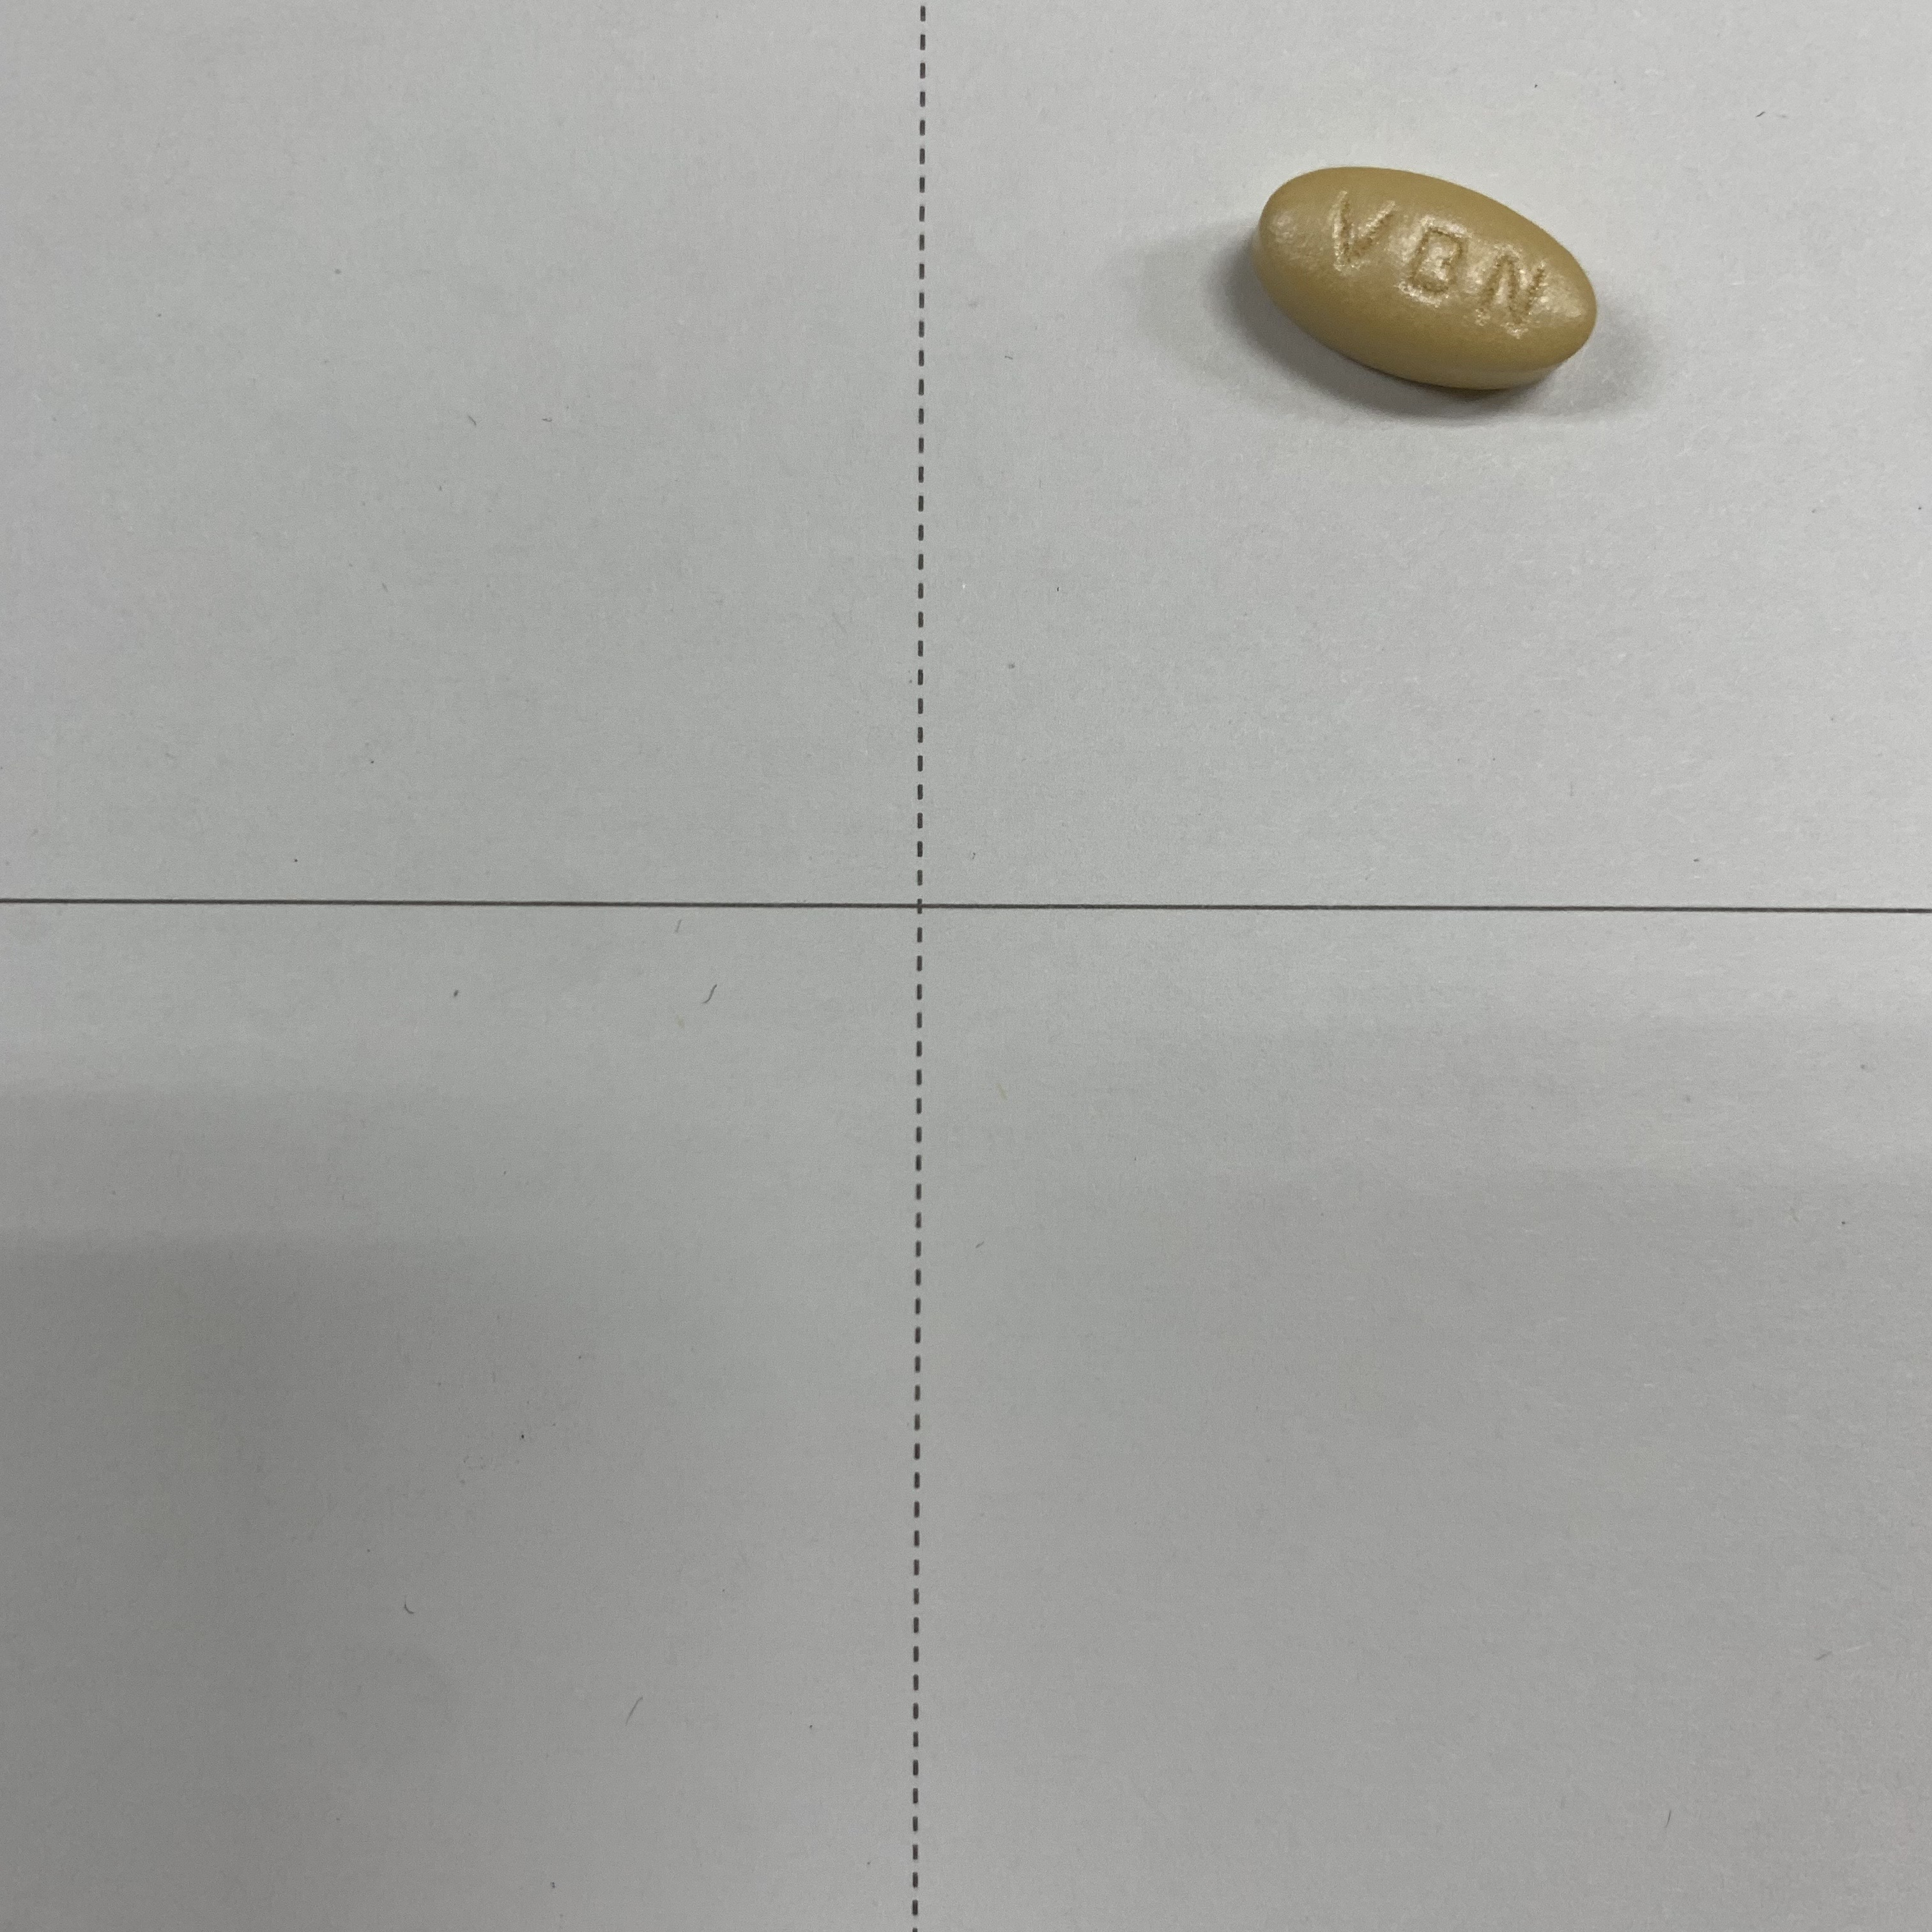oval_drug: (1217, 145, 1631, 416)
